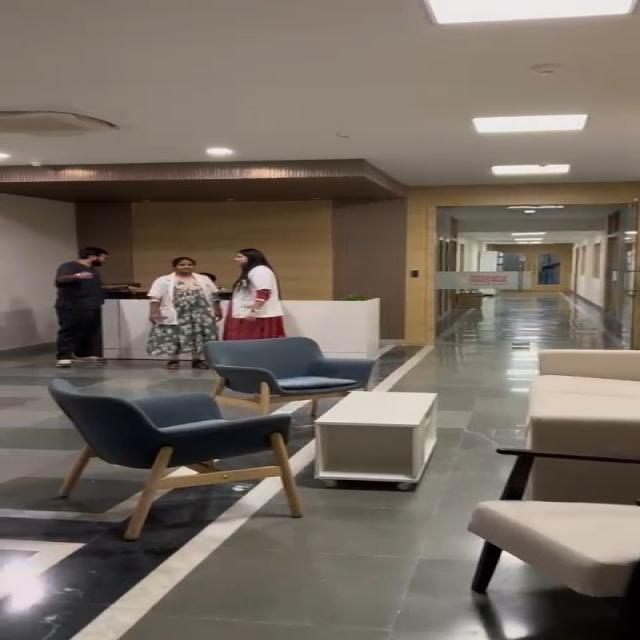door: (411, 196, 640, 354)
furniture: (64, 374, 640, 633)
moving_object: (51, 234, 300, 360)
